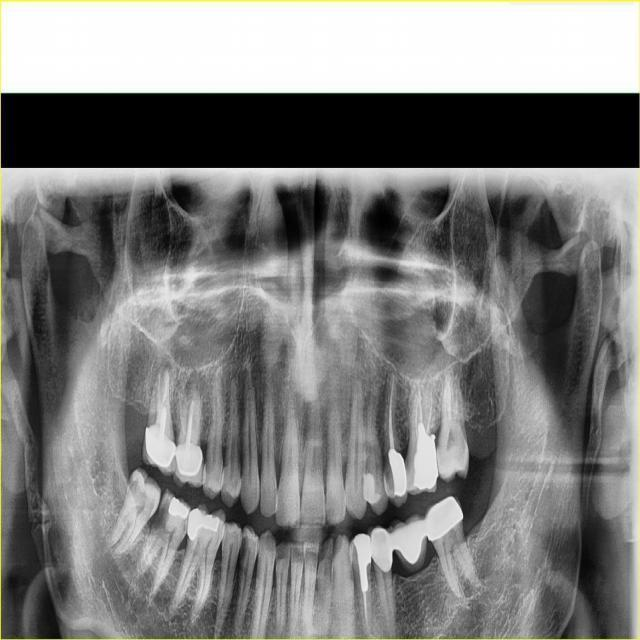Caries: (151, 492, 171, 535), (240, 529, 249, 564), (127, 473, 138, 493), (139, 486, 150, 503), (383, 464, 390, 483), (405, 453, 411, 473)
Crown: (391, 513, 427, 569), (424, 492, 462, 542), (142, 424, 176, 477), (173, 444, 206, 488), (369, 526, 393, 573)
Filling: (413, 421, 438, 491), (353, 534, 371, 591), (187, 509, 219, 541), (388, 450, 406, 497), (362, 473, 381, 504), (168, 496, 189, 519)
Periapical lesion: (184, 369, 205, 404)
Root Canal Treatment: (388, 371, 395, 449), (178, 389, 186, 438), (187, 396, 194, 445), (155, 367, 161, 423), (161, 369, 168, 416), (426, 390, 432, 435), (363, 590, 369, 633), (415, 398, 419, 441), (419, 385, 423, 422)
